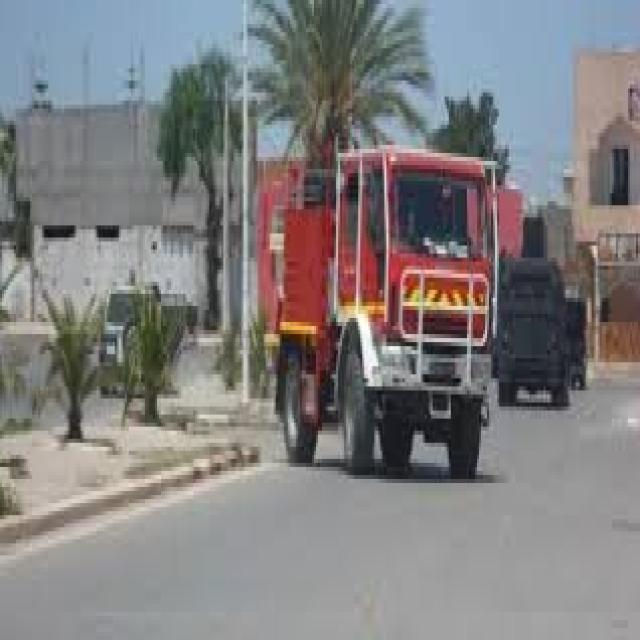emergency: (272, 128, 504, 484)
